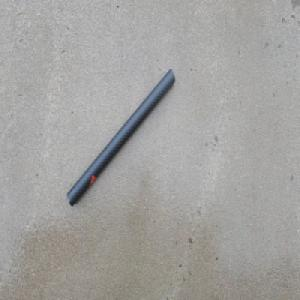LuggagePart: (66, 67, 175, 209)
